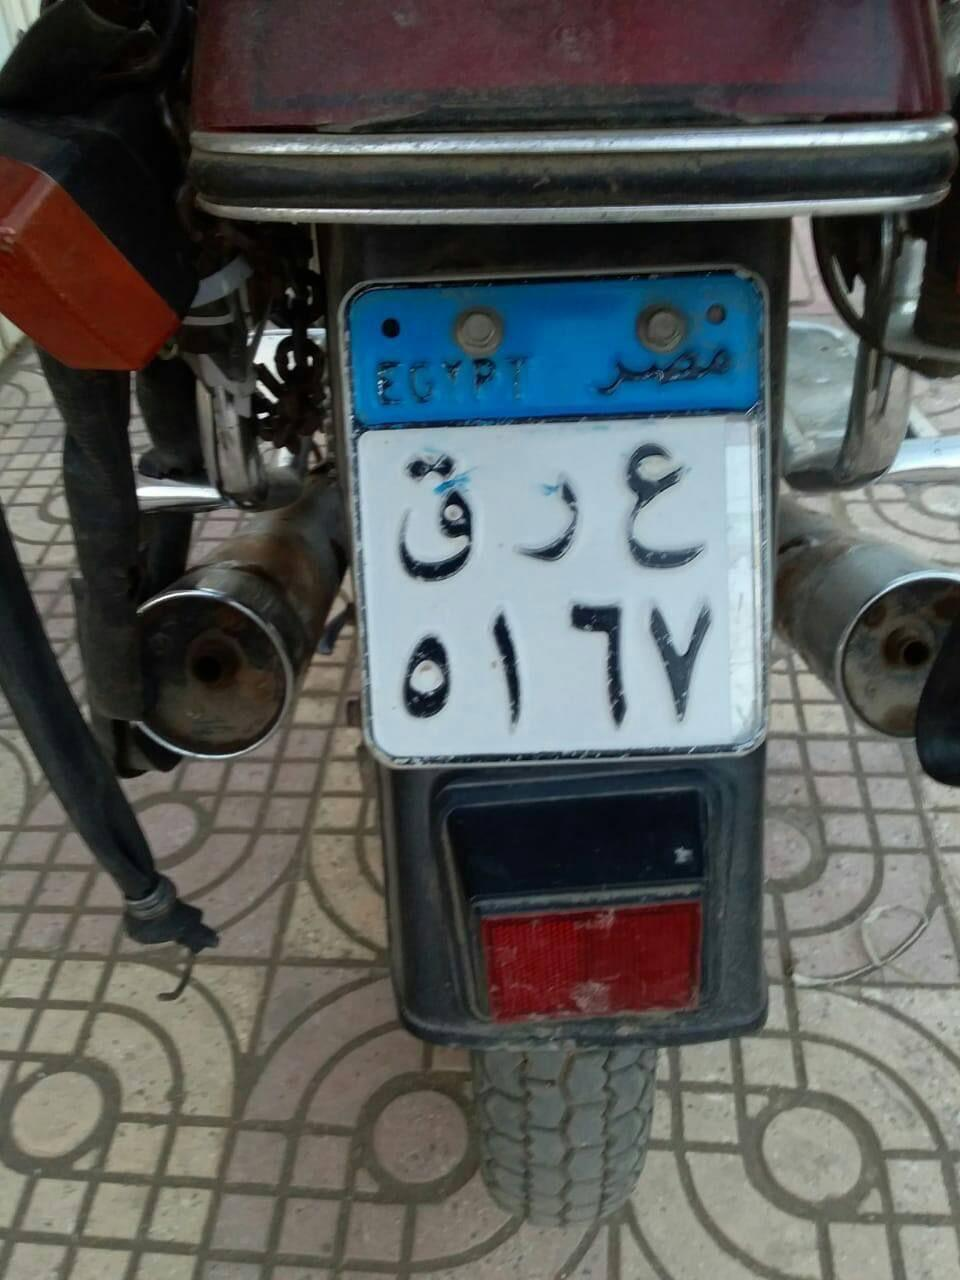License Plate: (343, 281, 761, 750)
